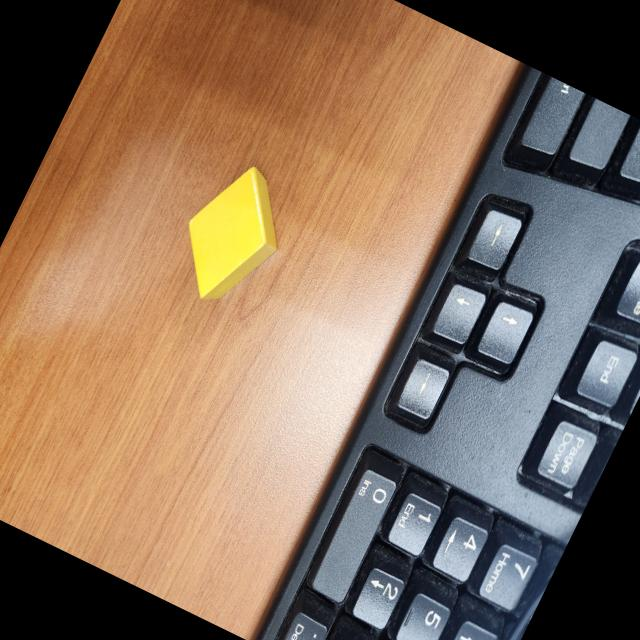yellow: (189, 167, 275, 300)
